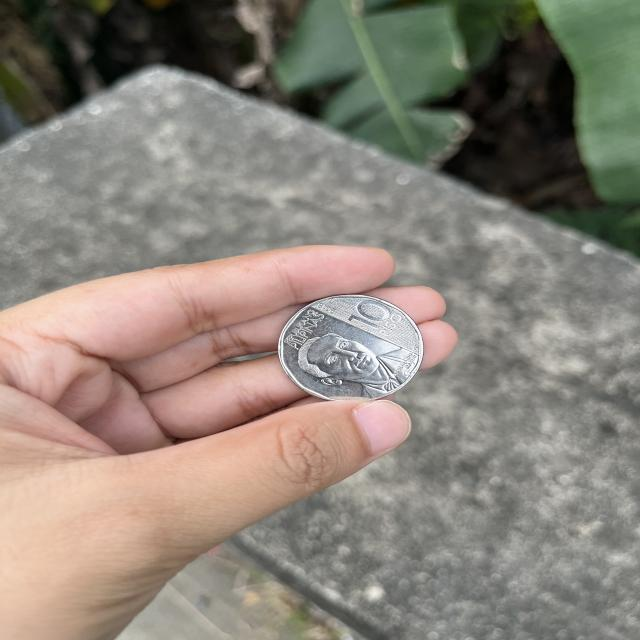10_New_Front: (344, 294, 400, 338)
